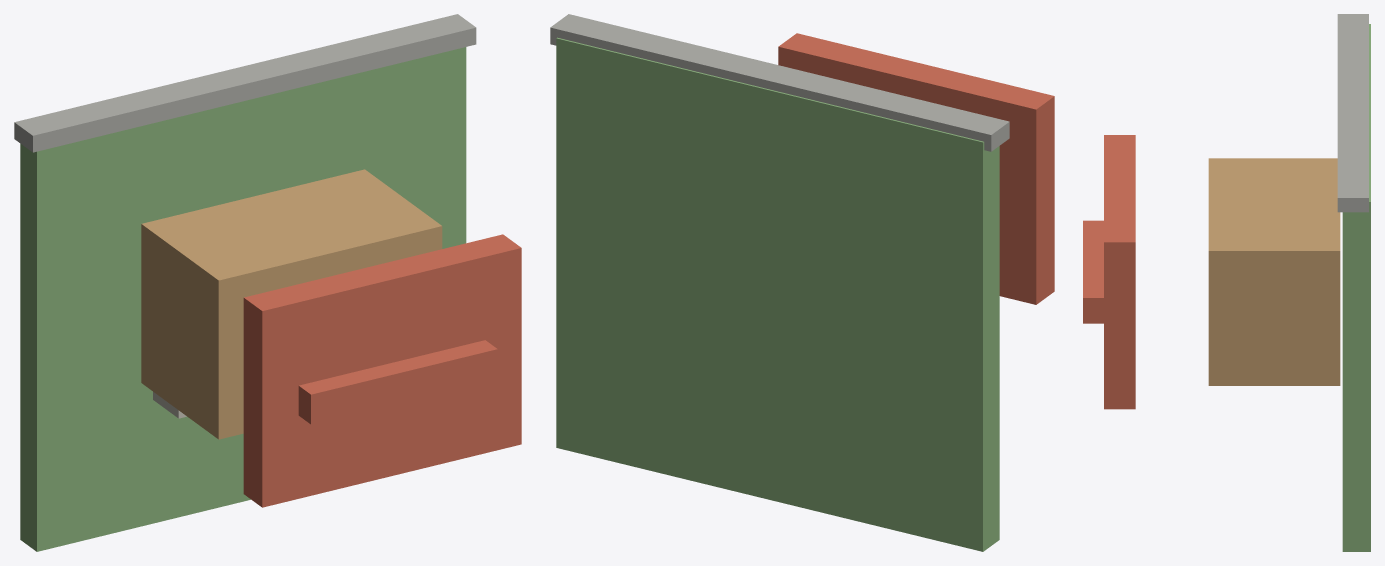
File: 13_NhaNongDan.glb
3 renders of one model, left to right at view 1: azimuth 30°, elevation 25°; view 2: azimuth 150°, elevation 25°; view 3: azimuth 270°, elevation 25°, orthographic. The views are drawn at different scales.
Visible parts, largest first — view 1: base, roof, house, edge, ridge; view 2: base, roof, edge; view 3: house, base, roof, edge, ridge.
Boxes of the visible parts, x1=… form: base: x1=20, y1=47, x2=466, y2=551; roof: x1=243, y1=234, x2=521, y2=507; house: x1=141, y1=169, x2=442, y2=439; edge: x1=14, y1=14, x2=476, y2=152; ridge: x1=298, y1=340, x2=497, y2=424; base: x1=556, y1=37, x2=999, y2=551; roof: x1=778, y1=33, x2=1054, y2=304; edge: x1=550, y1=14, x2=1009, y2=151; house: x1=1208, y1=158, x2=1340, y2=385; base: x1=1342, y1=24, x2=1370, y2=551; roof: x1=1104, y1=135, x2=1135, y2=409; edge: x1=1337, y1=14, x2=1368, y2=212; ridge: x1=1083, y1=220, x2=1103, y2=323.
Size of the model in its own units: 2.48 by 2.25 by 1.64.
